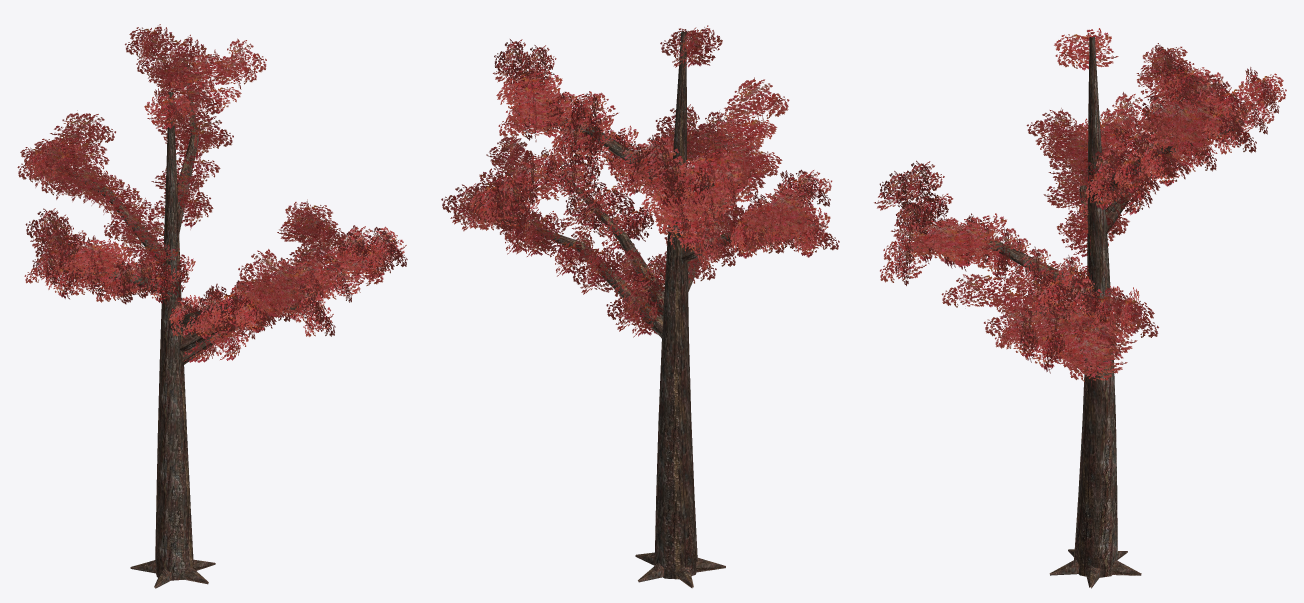
Rendered from tree_3d_01_red_lod1.glb.
3 views of the same model, side by side, from view 1: azimuth 30°, elevation 25°; view 2: azimuth 150°, elevation 25°; view 3: azimuth 270°, elevation 25° (orthographic). The views are drawn at different scales.
Visible parts, largest first — view 1: foliage_cards, wood_geometry; view 2: foliage_cards, wood_geometry; view 3: foliage_cards, wood_geometry.
Boxes of the visible parts, x1,y1,x2,y2 form: foliage_cards: (17,24,407,362); wood_geometry: (62,83,346,588); foliage_cards: (441,25,839,337); wood_geometry: (477,31,797,588); foliage_cards: (874,28,1286,386); wood_geometry: (915,36,1233,588).
Size of the model in its own units: 7.11 by 9.14 by 6.44.
2 materials, 2 textured.
